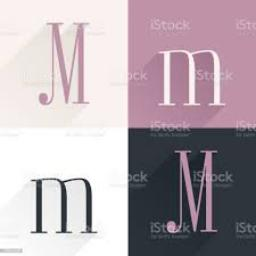m: (160, 140, 244, 250), (26, 10, 102, 120), (19, 163, 111, 253), (148, 38, 244, 122)
